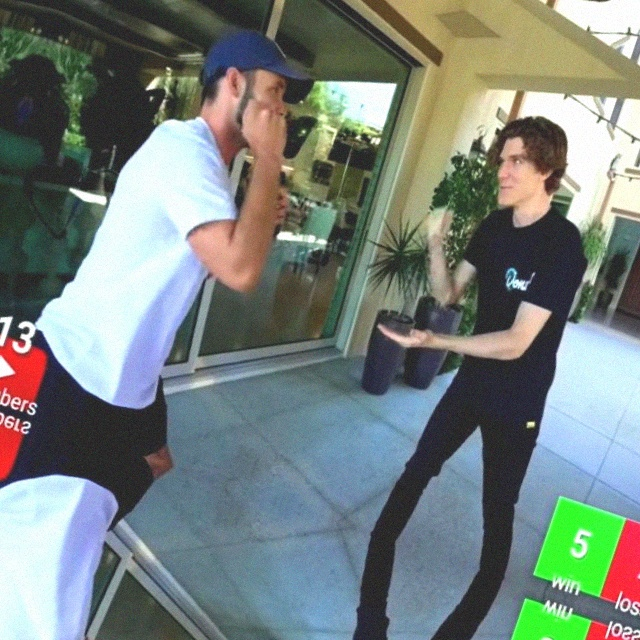Rock: (234, 99, 300, 162), (422, 205, 458, 249)
